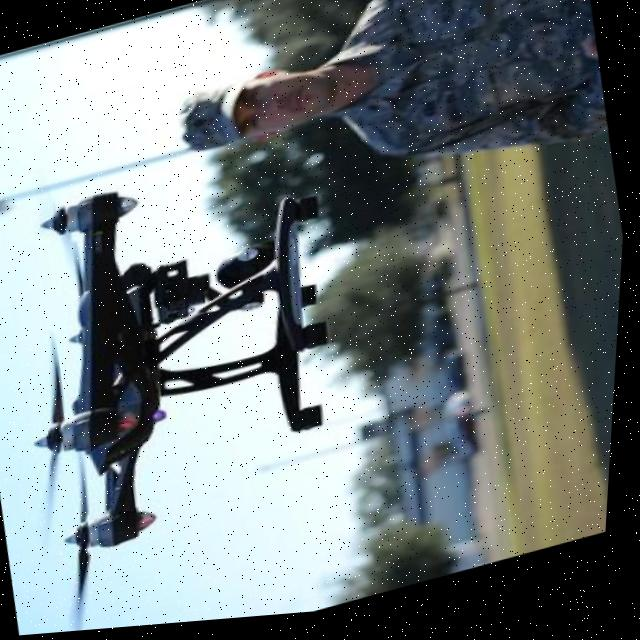drones: (0, 131, 379, 640)
